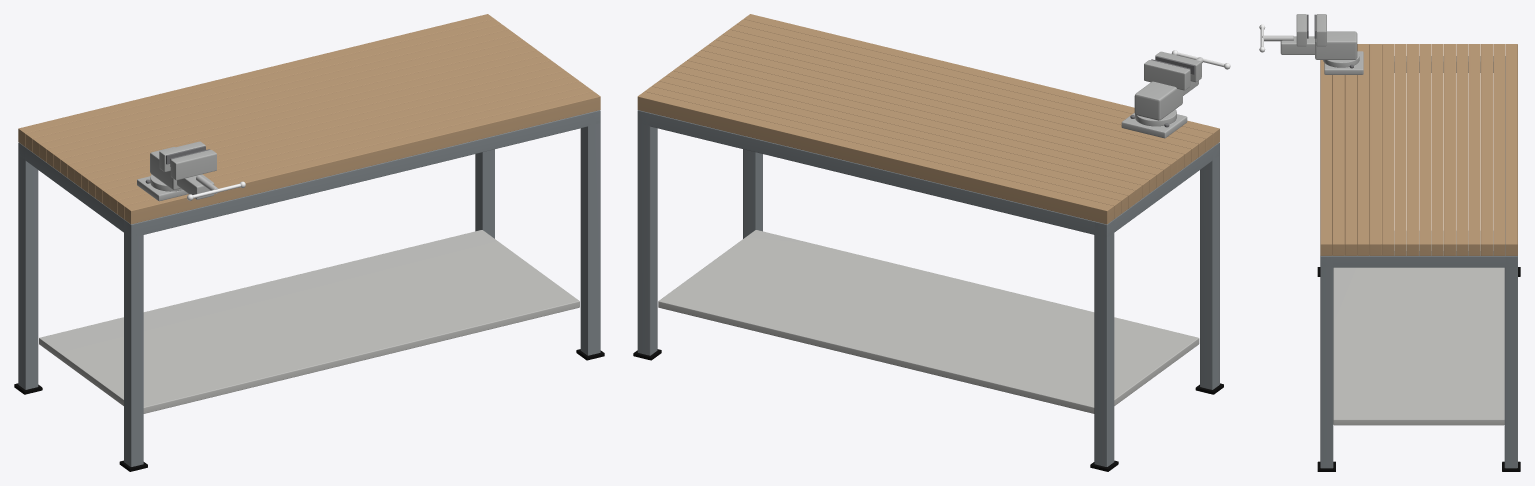
File: industrial.workshop.bench_standard.glb
3 renders of one model, left to right at view 1: azimuth 30°, elevation 25°; view 2: azimuth 150°, elevation 25°; view 3: azimuth 270°, elevation 25°, orthographic. The views are drawn at different scales.
Visible parts, largest first — view 1: main__timber_ca7, main__paint_ccc, main__paint_889, main__galv_bbb; view 2: main__timber_ca7, main__paint_ccc, main__paint_889, main__galv_bbb; view 3: main__timber_ca7, main__paint_ccc, main__paint_889, main__galv_bbb, main__rubber.
Part boxes in pixels (bbox=[...]): main__timber_ca7: bbox=[18, 14, 600, 224]; main__paint_ccc: bbox=[39, 230, 579, 413]; main__paint_889: bbox=[18, 110, 600, 466]; main__galv_bbb: bbox=[137, 141, 216, 201]; main__timber_ca7: bbox=[637, 14, 1219, 224]; main__paint_ccc: bbox=[658, 230, 1199, 413]; main__paint_889: bbox=[637, 110, 1219, 466]; main__galv_bbb: bbox=[1121, 51, 1201, 138]; main__timber_ca7: bbox=[1320, 44, 1517, 255]; main__paint_ccc: bbox=[1333, 231, 1504, 425]; main__paint_889: bbox=[1320, 56, 1517, 468]; main__galv_bbb: bbox=[1280, 14, 1363, 74]; main__rubber: bbox=[1317, 267, 1520, 471].
Bounding box in the file's own units: 1.82 × 1.14 × 0.991.
